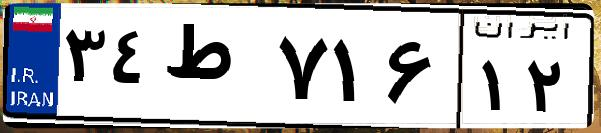1: (330, 28, 385, 110), (475, 38, 525, 113)
2: (525, 38, 570, 115)
3: (57, 26, 110, 100)
4: (110, 28, 158, 98)
6: (385, 28, 445, 110)
7: (270, 28, 330, 110)
ط: (158, 20, 270, 120)
